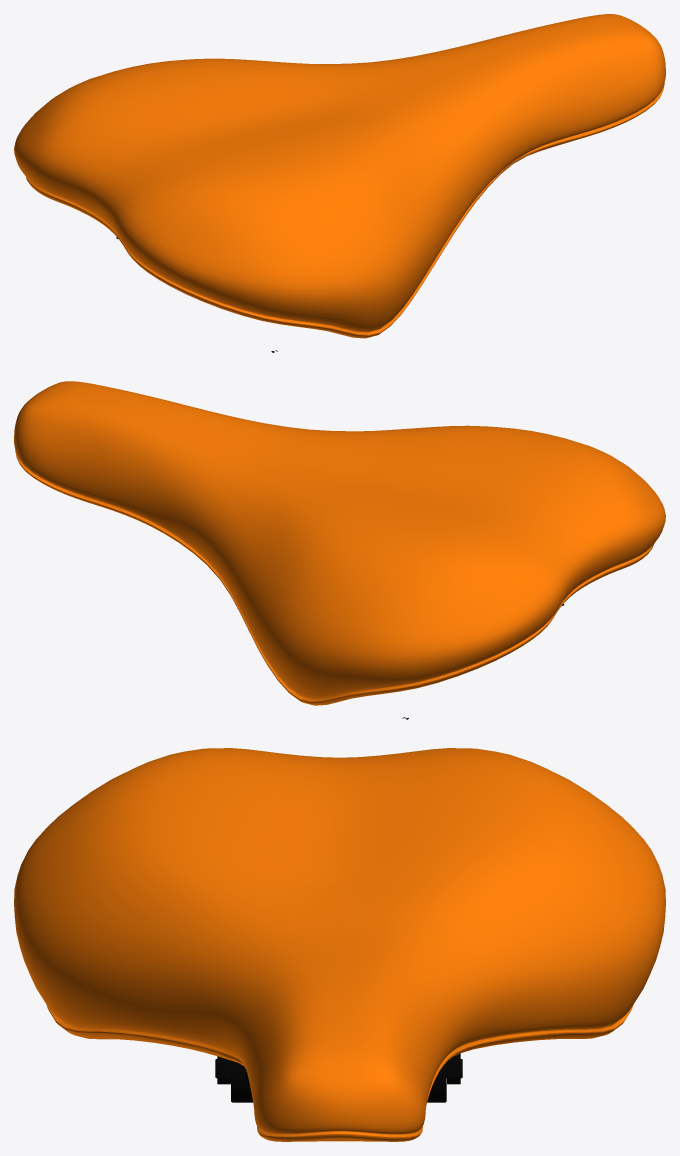
File: f881c2a4-f291-4ca8-9c5d-712075edadfc.glb
3 renders of one model, top to bottom at view 1: azimuth 30°, elevation 25°; view 2: azimuth 150°, elevation 25°; view 3: azimuth 270°, elevation 25°, orthographic. The views are drawn at different scales.
Parts seen in each view (by area): view 1: Cube.003; view 2: Cube.003; view 3: Cube.003.
Part boxes in pixels (x1=…): Cube.003: x1=14, y1=14, x2=665, y2=352; Cube.003: x1=14, y1=381, x2=665, y2=719; Cube.003: x1=14, y1=748, x2=665, y2=1141.
Bounding box in the file's own units: 11.65 × 3.91 × 8.74.
